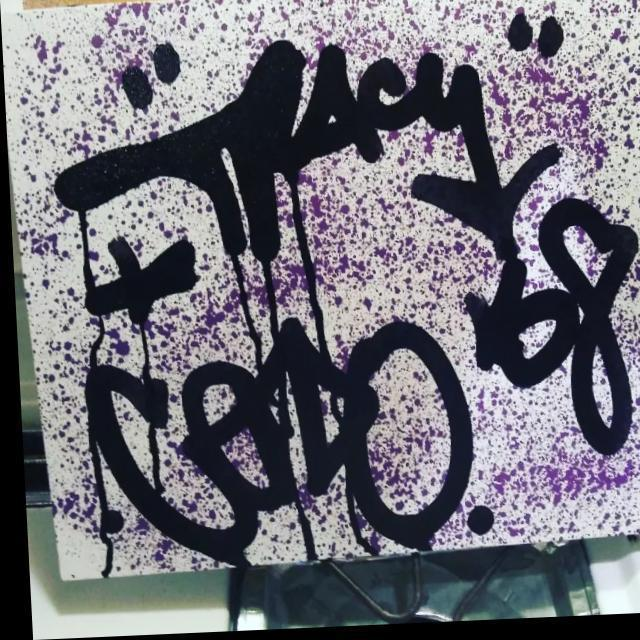nonspitting: (51, 10, 636, 570)
